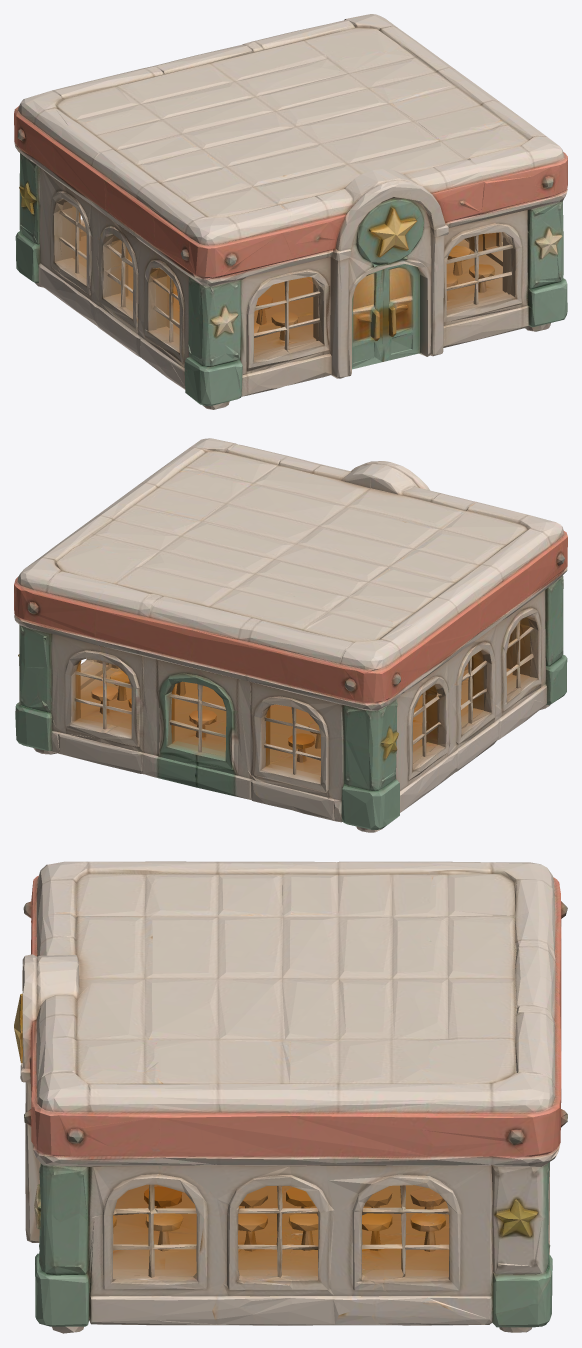
File: 07-terminal-station.glb
3 views of the same model, one above another, from view 1: azimuth 30°, elevation 25°; view 2: azimuth 150°, elevation 25°; view 3: azimuth 270°, elevation 25° (orthographic). The views are drawn at different scales.
Bounding box in the file's own units: 0.9996 × 0.484 × 0.9342.
Materials: 1 (1 with a texture image).
